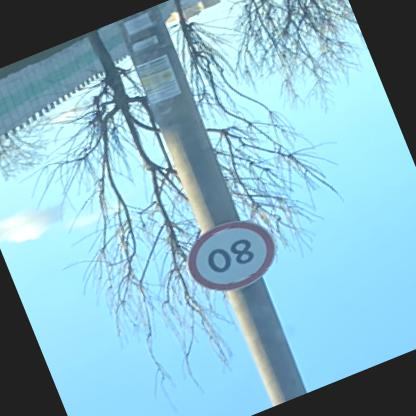speedlimit: (179, 207, 288, 304)
